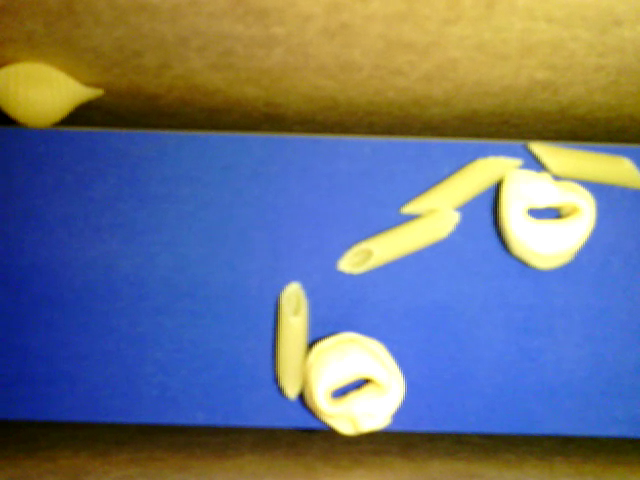penne: (335, 208, 461, 274), (398, 154, 525, 215), (523, 140, 639, 187), (276, 279, 308, 400)
shell: (1, 61, 105, 128)
tortellini: (302, 331, 406, 435), (499, 168, 596, 269)
